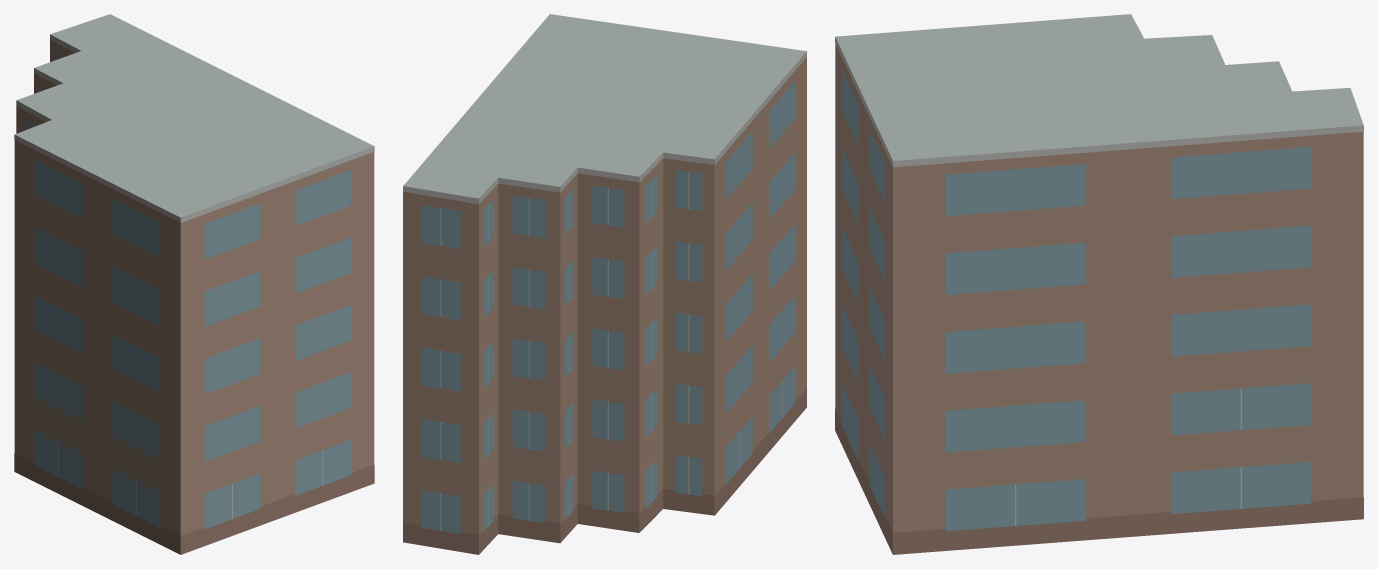
Rendered from survey-upis-32567656.glb.
3 views of the same model, side by side, from view 1: azimuth 30°, elevation 25°; view 2: azimuth 150°, elevation 25°; view 3: azimuth 270°, elevation 25° (orthographic). The views are drawn at different scales.
Parts seen in each view (by area): view 1: survey-upis-32567656.tmp; view 2: survey-upis-32567656.tmp; view 3: survey-upis-32567656.tmp.
Boxes of the visible parts, bbox=[...] form: survey-upis-32567656.tmp: bbox=[14, 14, 374, 554]; survey-upis-32567656.tmp: bbox=[403, 14, 806, 554]; survey-upis-32567656.tmp: bbox=[835, 14, 1363, 554].
Bounding box in the file's own units: 12.22 × 15.25 × 18.56.
